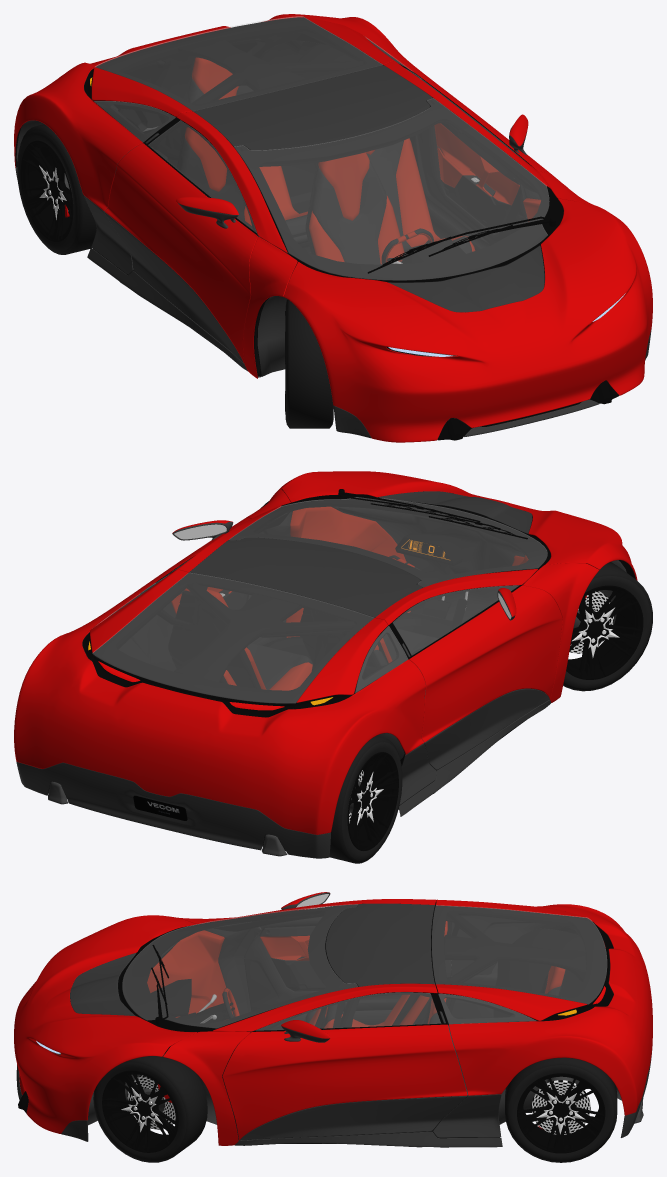
The model's file is auto.glb.
3 views of the same model, one above another, from view 1: azimuth 30°, elevation 25°; view 2: azimuth 150°, elevation 25°; view 3: azimuth 270°, elevation 25° (orthographic). The views are drawn at different scales.
Visible parts, largest first — view 1: BodyHood, BodyWindshield, BodyRearwindow, BodyDoorRColor1, BodyRearPanelsColor1, BodyRoofPanel, BodyWindshieldGasket, InteriorSeatsColor1, InteriorSeatsColor2, BodyPillars, InteriorPillar, InteriorRearHatch (+21 smaller); view 2: BodyRearPanelsColor1, BodyRearwindow, BodyWindshield, BodyDoorRColor1, BodyPanelsColor2, BodyRoofPanel, BodyHood, InteriorRearHatch, BodyPillars, InteriorPillar, BodyWindshieldGasket, InteriorDashMid (+22 smaller); view 3: BodyRearPanelsColor1, BodyWindshield, BodyDoorLColor1, BodyHood, BodyRearwindow, BodyRoofPanel, BodyPillars, BodyWindshieldGasket, BodyDoorLColor2, BodyPanelsColor2, WheelFrontL, InteriorRearHatch (+25 smaller).
Part boxes in pixels (box(x1,y1,x2,y2)): BodyHood: box(283, 198, 652, 442); BodyWindshield: box(234, 98, 549, 280); BodyRearwindow: box(95, 16, 382, 110); BodyDoorRColor1: box(104, 143, 257, 362); BodyRearPanelsColor1: box(14, 14, 428, 210); BodyRoofPanel: box(193, 65, 432, 150); BodyWindshieldGasket: box(234, 99, 563, 282); InteriorSeatsColor1: box(185, 57, 475, 264); InteriorSeatsColor2: box(180, 78, 472, 264); BodyPillars: box(176, 61, 598, 378); InteriorPillar: box(158, 37, 434, 168); InteriorRearHatch: box(93, 17, 383, 117); BodyRearPanelsColor1: box(14, 569, 425, 834); BodyRearwindow: box(92, 573, 373, 703); BodyWindshield: box(229, 497, 547, 587); BodyDoorRColor1: box(409, 585, 562, 742); BodyPanelsColor2: box(16, 700, 550, 858); BodyRoofPanel: box(189, 537, 422, 617); BodyHood: box(279, 471, 637, 580); InteriorRearHatch: box(93, 573, 386, 707); BodyPillars: box(175, 489, 599, 702); InteriorPillar: box(174, 574, 417, 682); BodyWindshieldGasket: box(230, 497, 550, 587); InteriorDashMid: box(331, 503, 528, 622); BodyRearPanelsColor1: box(436, 899, 652, 1115); BodyWindshield: box(122, 904, 357, 1028); BodyDoorLColor1: box(222, 1024, 467, 1139); BodyHood: box(14, 915, 196, 1133); BodyRearwindow: box(432, 905, 606, 1003); BodyRoofPanel: box(326, 903, 434, 986); BodyPillars: box(163, 899, 437, 1145); BodyWindshieldGasket: box(118, 905, 357, 1032); BodyDoorLColor2: box(240, 1096, 467, 1140); BodyPanelsColor2: box(16, 1050, 652, 1147); WheelFrontL: box(93, 1054, 207, 1162); InteriorRearHatch: box(431, 905, 606, 1020).
Size of the model in its own units: 2.54 by 1.15 by 4.36.
24 materials, 5 textured.
